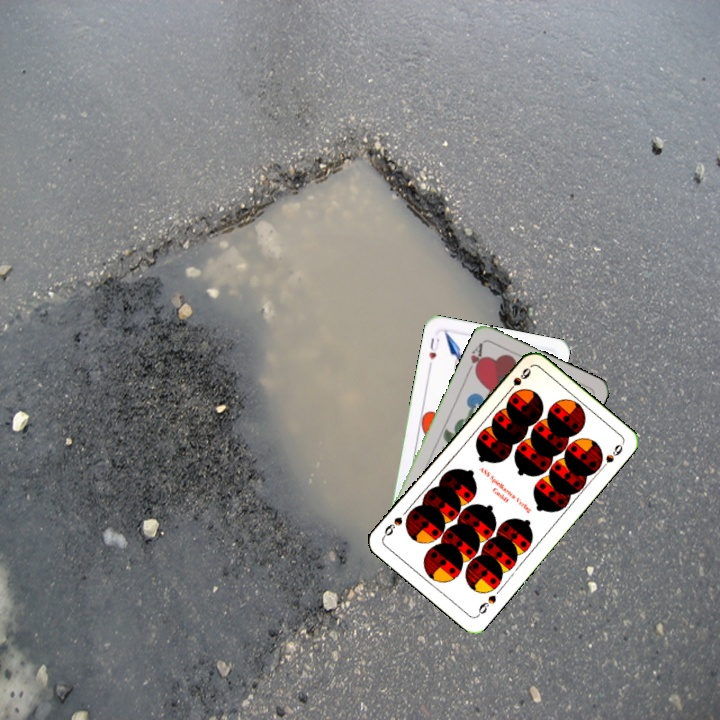HA: (463, 339, 487, 378)
HU: (425, 333, 442, 370)
S9: (502, 364, 534, 397), (473, 591, 499, 619)
